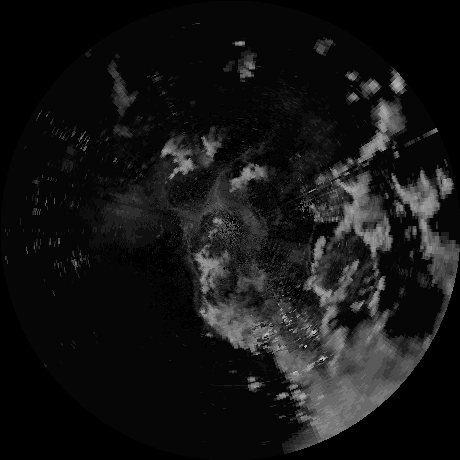frontgust: (220, 147, 250, 174), (185, 227, 197, 278), (303, 221, 315, 264)
